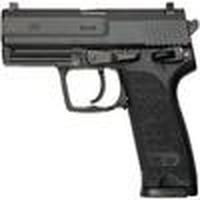gun: (2, 5, 200, 198)
